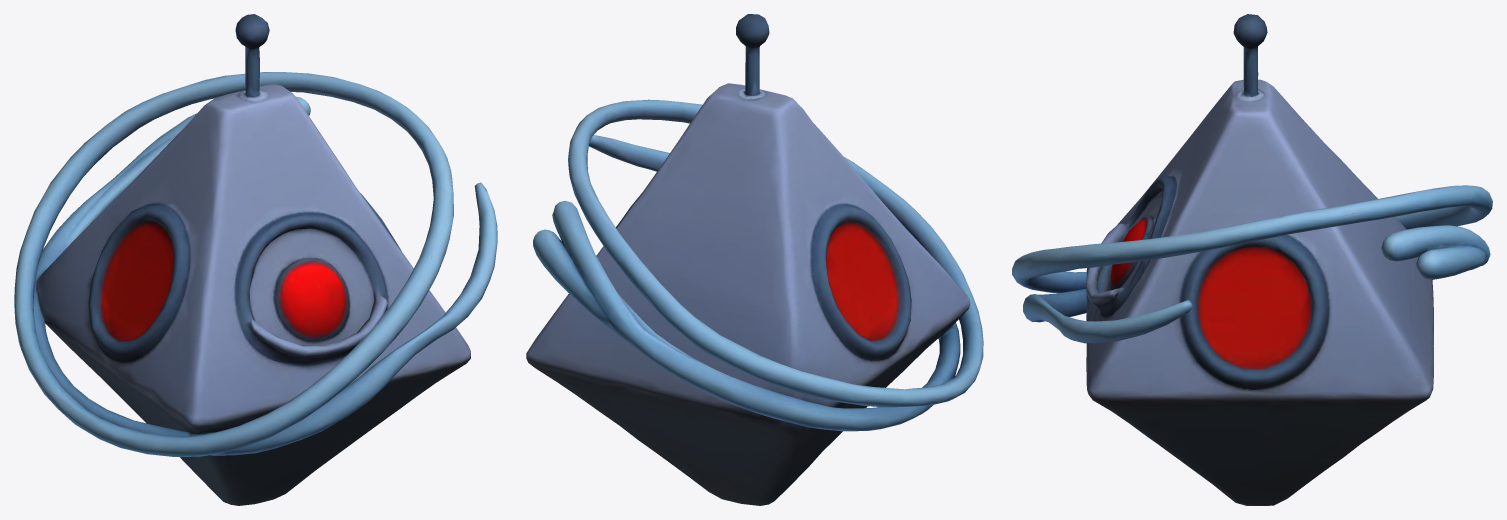
Rendered from zapdrone.glb.
The picture shows the model from 3 angles, left to right: view 1: azimuth 30°, elevation 25°; view 2: azimuth 150°, elevation 25°; view 3: azimuth 270°, elevation 25°; orthographic projection.
Parts seen in each view (by area): view 1: world; view 2: world; view 3: world.
Part boxes in pixels (x1,y1,x2,y2): world: (14, 14, 497, 505); world: (526, 14, 983, 505); world: (1012, 14, 1492, 505).
Bounding box in the file's own units: 0.8613 × 0.9981 × 0.9018.
Materials: 1 (1 with a texture image).
